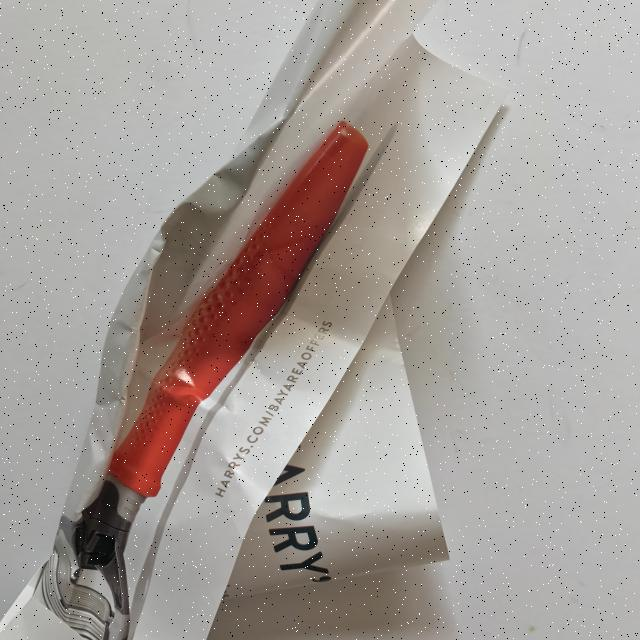paper: (4, 1, 637, 639)
